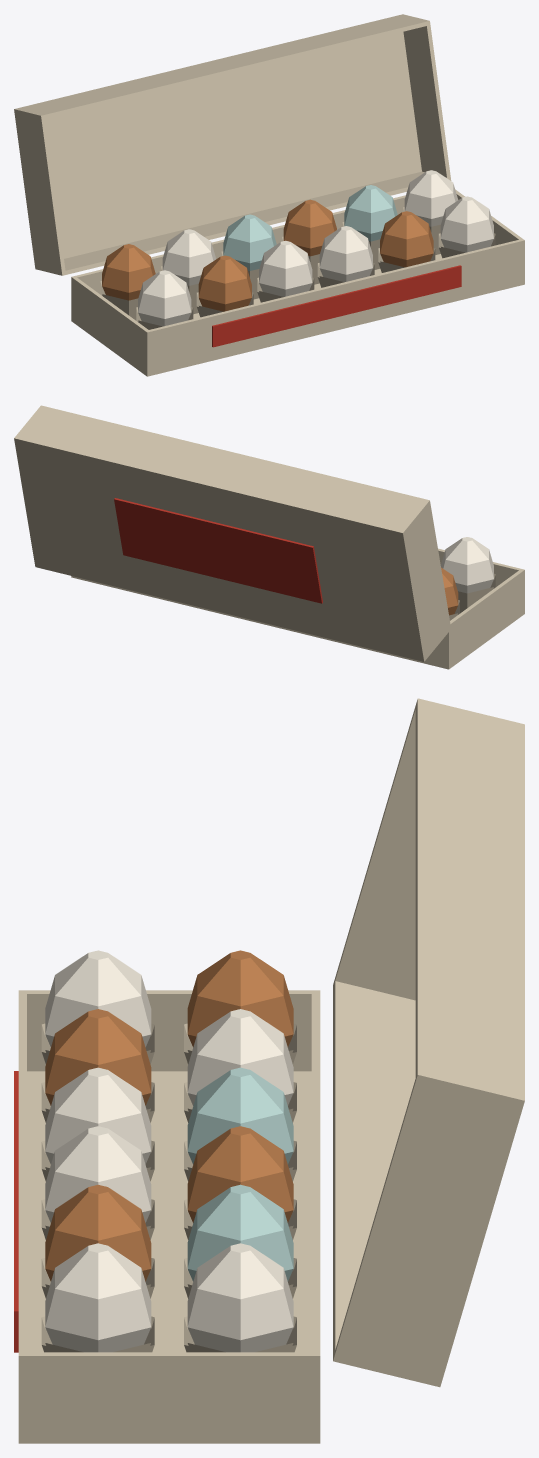
Rendered from FD_EggCarton_01.glb.
The picture shows the model from 3 angles, top to bottom: view 1: azimuth 30°, elevation 25°; view 2: azimuth 150°, elevation 25°; view 3: azimuth 270°, elevation 25°; orthographic projection. The views are drawn at different scales.
Parts seen in each view (by area): view 1: Lid, FD_EggCarton_01; view 2: Lid, FD_EggCarton_01; view 3: FD_EggCarton_01, Lid.
Boxes of the visible parts, <box> form: Lid: <box>14,14,451,275</box>; FD_EggCarton_01: <box>71,170,524,376</box>; Lid: <box>14,405,451,661</box>; FD_EggCarton_01: <box>71,537,524,669</box>; FD_EggCarton_01: <box>14,950,320,1443</box>; Lid: <box>333,698,524,1387</box>.
Size of the model in its own units: 0.313 by 0.1451 by 0.1795.
1 material, 1 textured.
